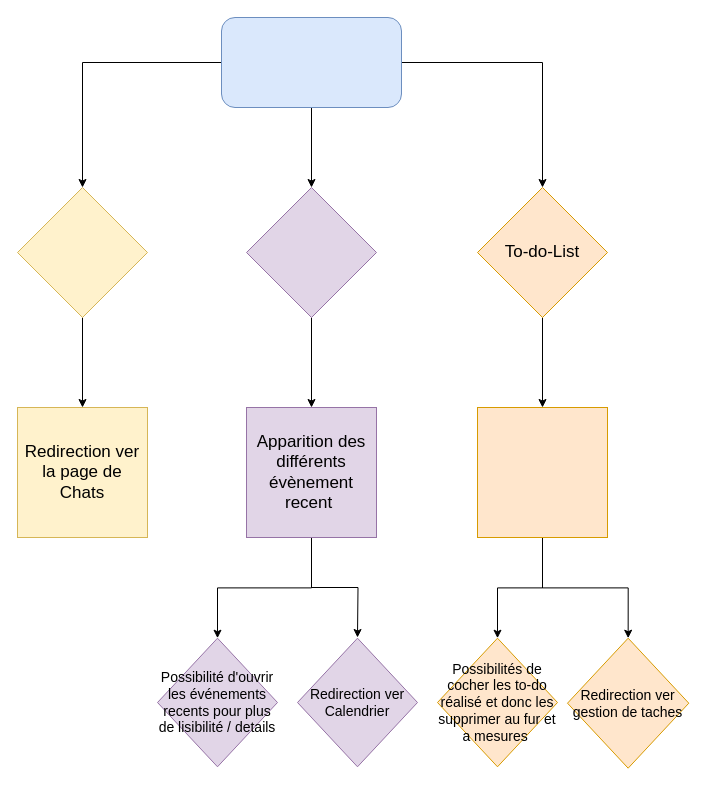
This 707x786 diagram has some shape labels left out. Each missing label, with the box of its shape:
Evenement Prochain: (246, 186, 376, 318)
Messages Reçus: (16, 186, 148, 318)
Presentation des to-do restants: (476, 406, 608, 538)
Tableau de Bord: (220, 16, 402, 108)
